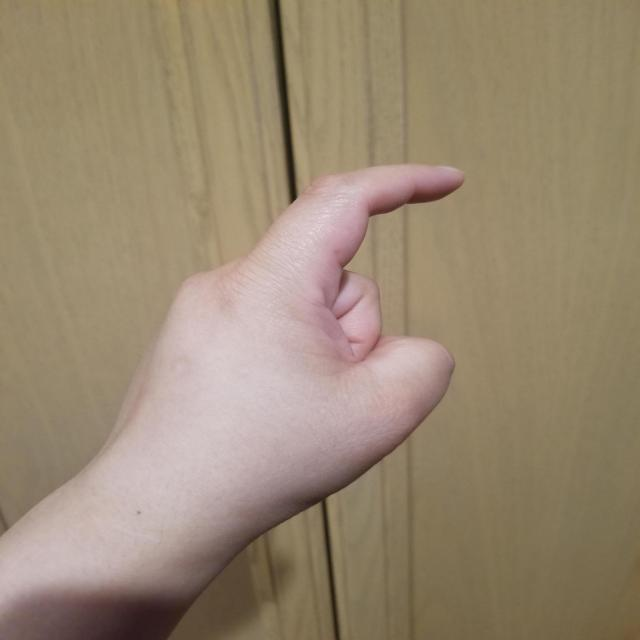X: (90, 160, 472, 549)
